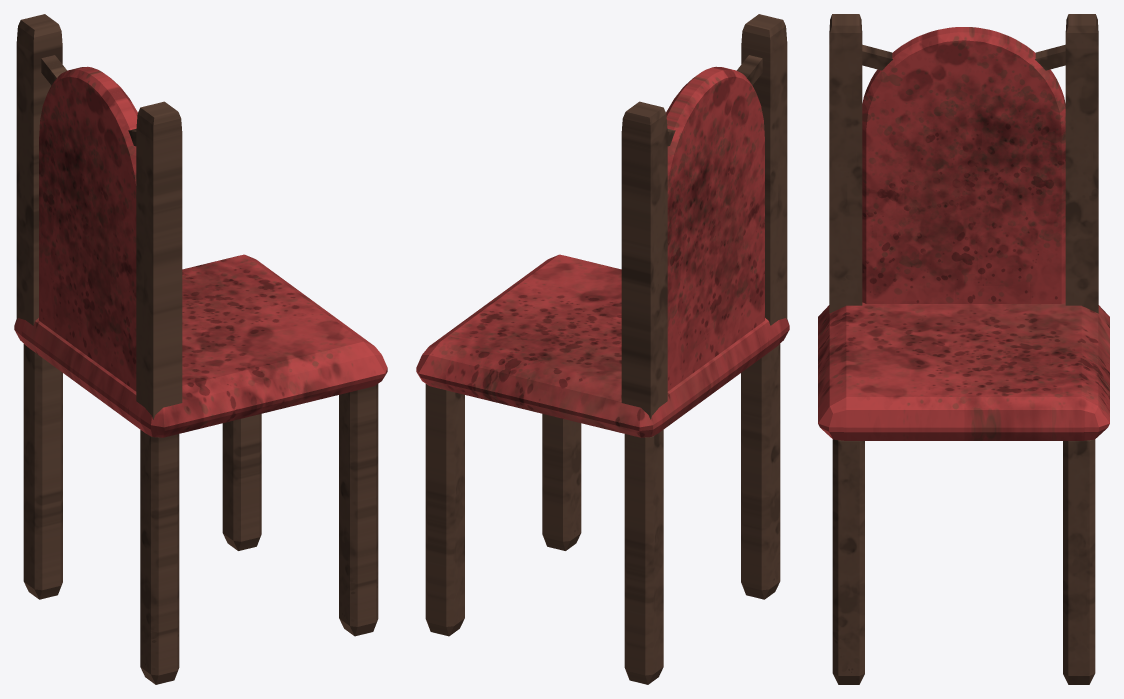
The model's file is chair.fbx.
3 views of the same model, side by side, from view 1: azimuth 30°, elevation 25°; view 2: azimuth 150°, elevation 25°; view 3: azimuth 270°, elevation 25° (orthographic).
Parts seen in each view (by area): view 1: chair; view 2: chair; view 3: chair.
Boxes of the visible parts, x1,y1,x2,y2 form: chair: [14, 14, 387, 684]; chair: [416, 14, 789, 684]; chair: [818, 14, 1109, 684].
Size of the model in its own units: 43.96 by 100 by 47.14.
Materials: 1 (1 with a texture image).
